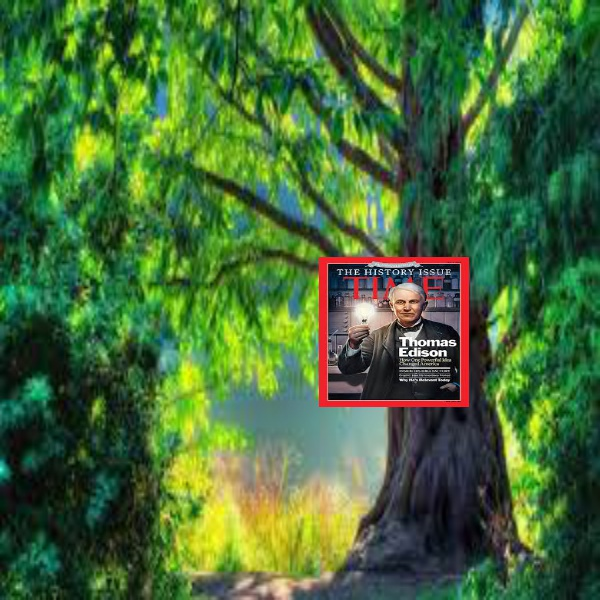time_cover: (317, 255, 473, 412)
